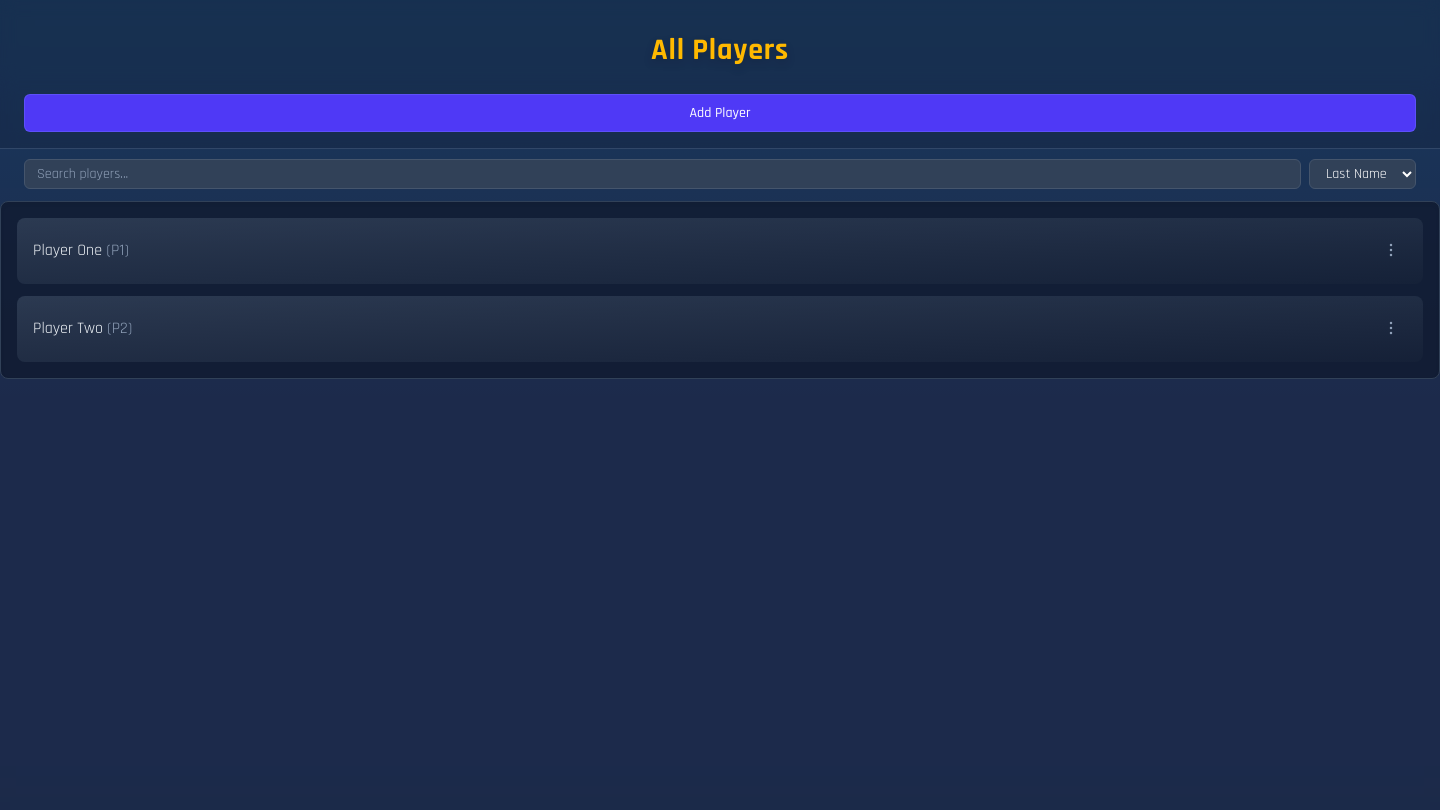
Test: <RosterSettingsModal /> › filters players by search input
Type "Two" into the field with placeholder "Search players...".
click(662, 174); type("Two")  # box x1=24 y1=158 x2=1301 y2=188
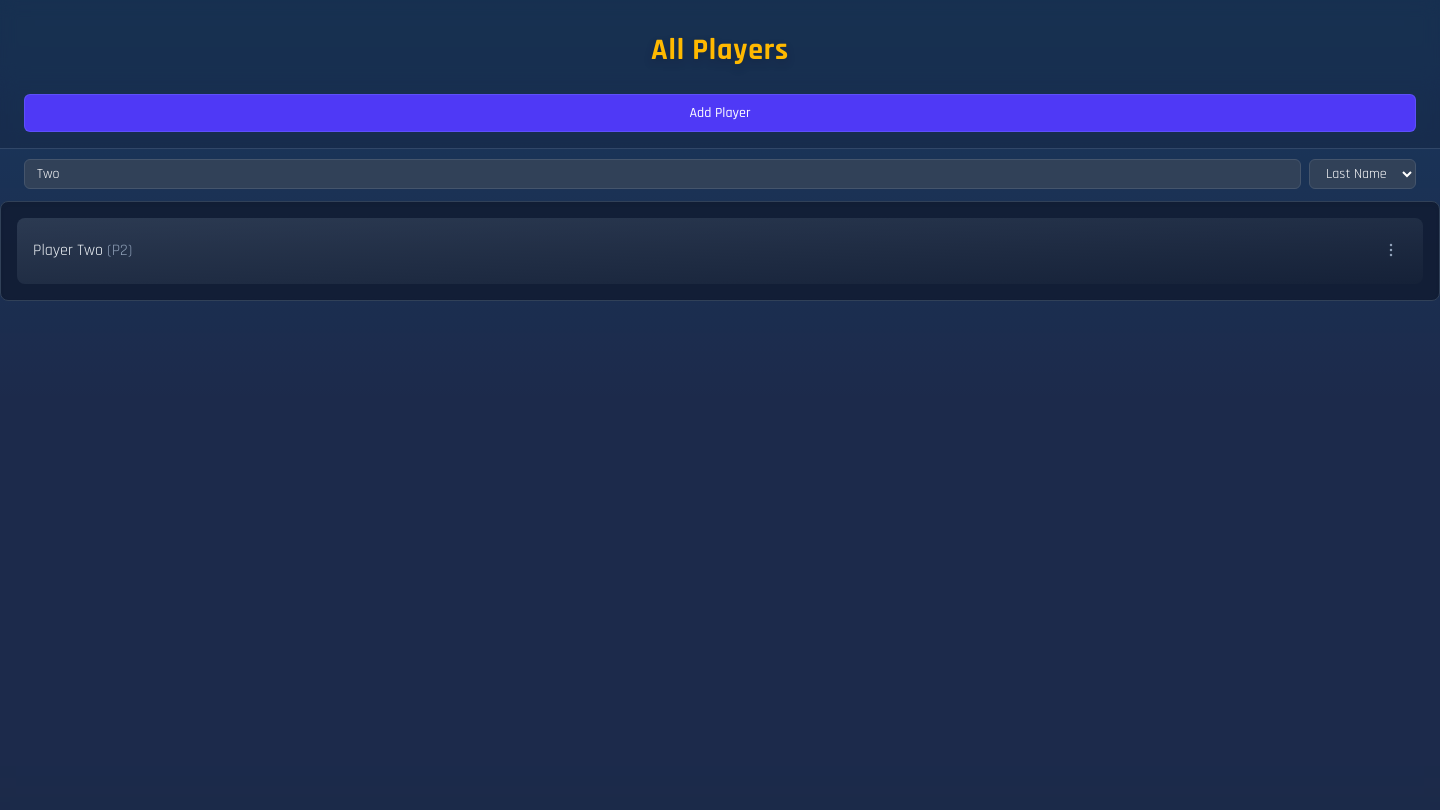
Expected: the text "Player Two" is shown, x1=33 y1=240 x2=103 y2=260
Expected: the text "Player One" is gone
